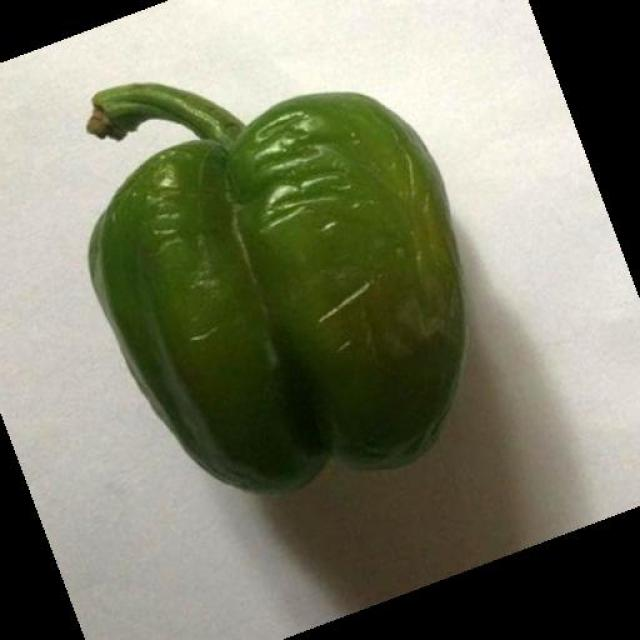Stale_Capsicum: (66, 86, 459, 499)
